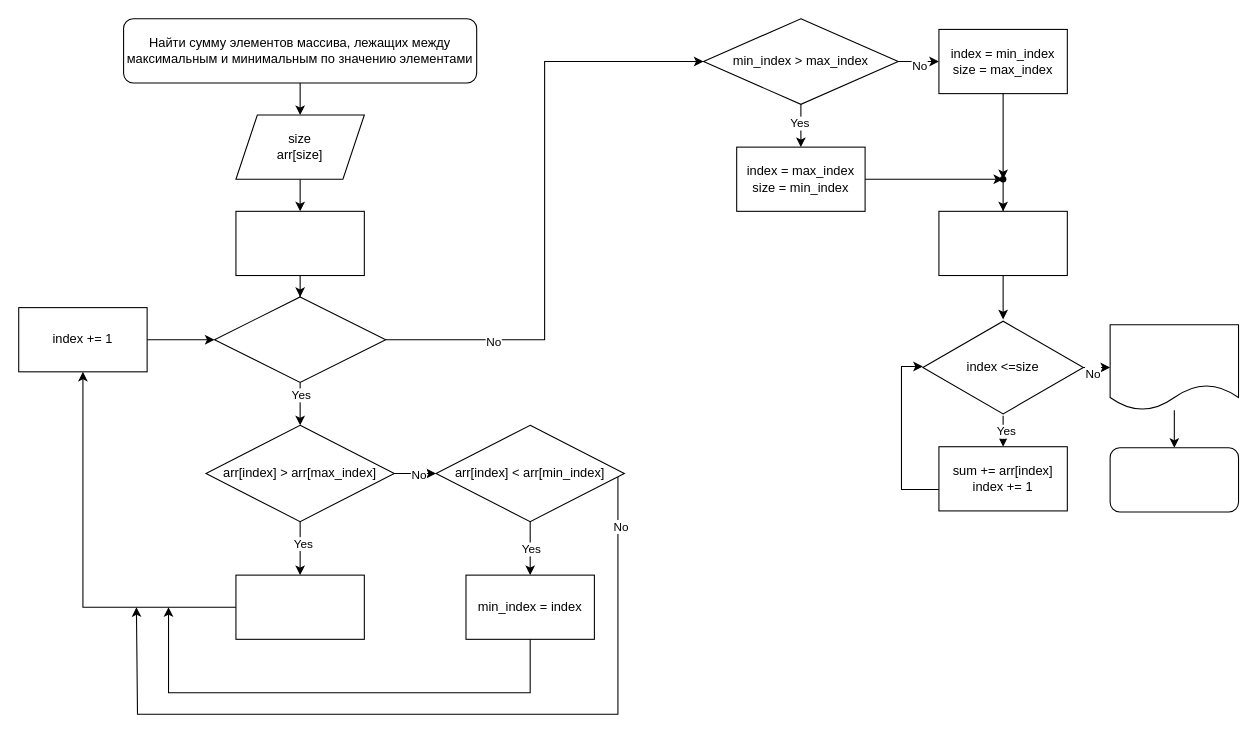
The diagram is 1257 pixels wide and 742 high, and some of its shapes have lost their labels. Each missing label, with the box of its shape:
end: (1109, 447, 1239, 512)
index < size: (213, 296, 386, 383)
max_index = 1 min_index = 1 index = 0: (235, 210, 364, 276)
max_index = index: (235, 574, 364, 639)
sum = 0: (938, 210, 1067, 276)
